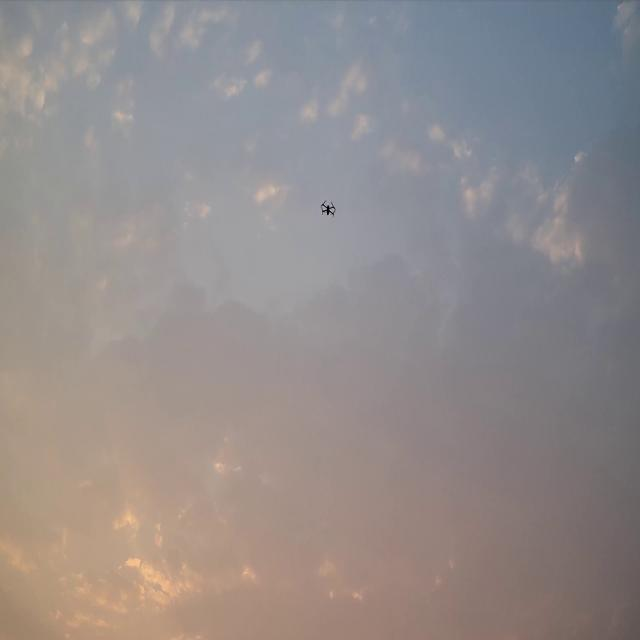drone: (320, 199, 336, 217)
